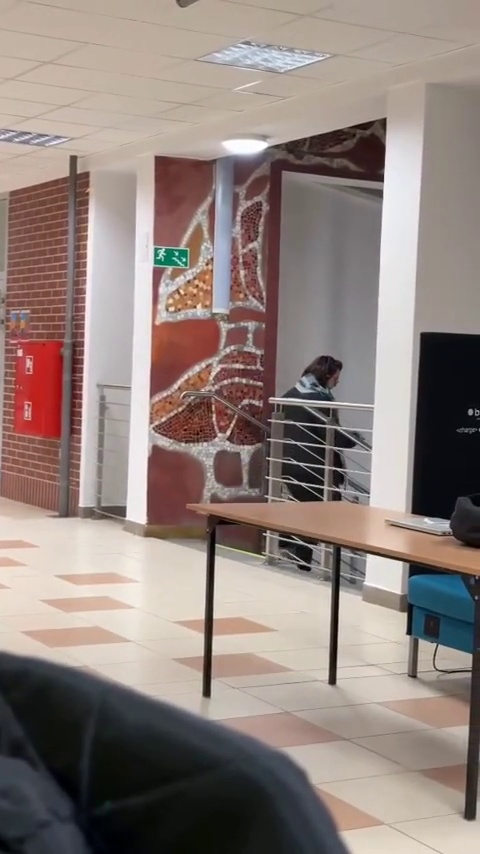no vest: (278, 355, 354, 574)
